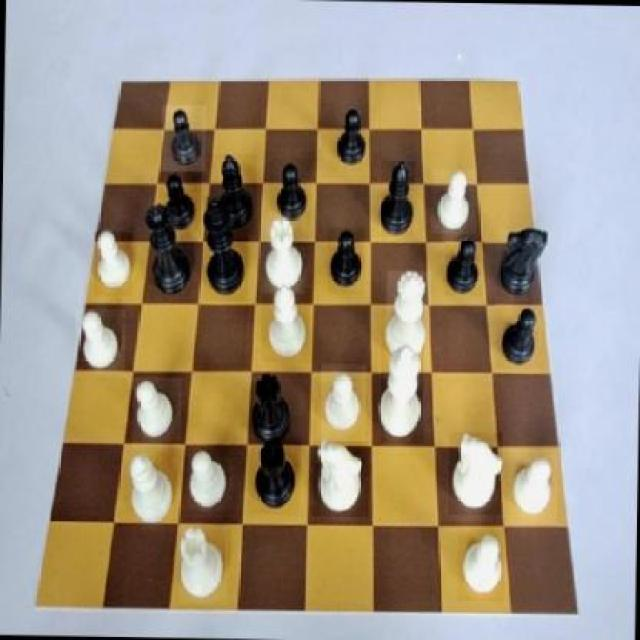bishop: (209, 152, 257, 235), (378, 160, 414, 237)
black-bishop: (203, 197, 251, 303)
black-king: (497, 220, 553, 300)
black-knight: (494, 306, 544, 371), (162, 105, 206, 172), (270, 157, 312, 226), (329, 103, 369, 173), (158, 171, 202, 231), (328, 228, 365, 294), (444, 240, 484, 297)
black-pawn: (140, 205, 195, 297)
black-queen: (249, 438, 300, 516), (248, 374, 294, 449)
black-rook: (126, 448, 179, 534), (262, 286, 312, 362)
white-bishop: (380, 342, 425, 442)
white-king: (449, 430, 503, 514), (312, 440, 368, 517)
white-knight: (318, 363, 366, 445), (508, 449, 558, 526), (132, 377, 182, 447), (459, 530, 506, 602), (74, 308, 124, 372), (188, 446, 234, 512), (431, 169, 477, 234), (94, 232, 133, 296)
white-pawn: (386, 270, 431, 368)
white-queen: (180, 524, 229, 604), (260, 212, 306, 295)
